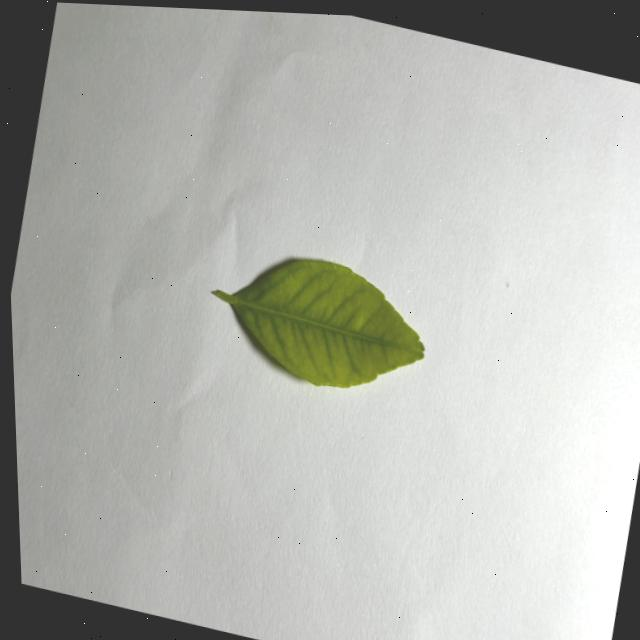greening: (212, 260, 424, 387)
